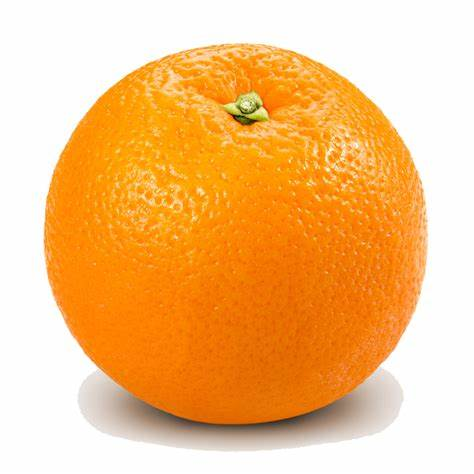Orange: (34, 35, 435, 442)
